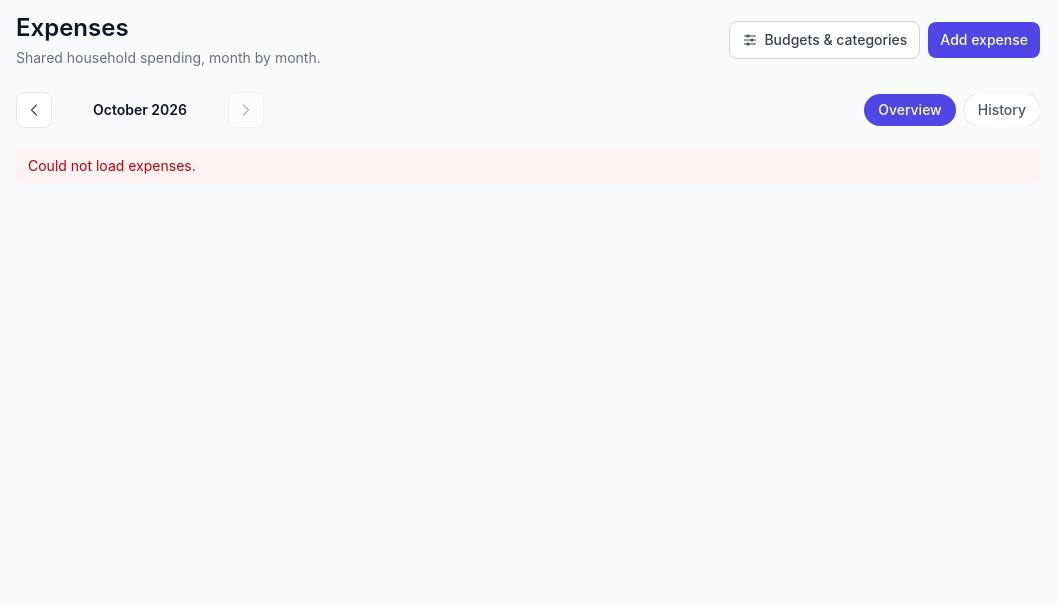
Expenses page › shows a load error and clears it once the next month loads
Expected: the text "Could not load expenses." is shown, [16,148,1040,184]
Click the button named "Previous month": (34, 110) [16,92,52,128]
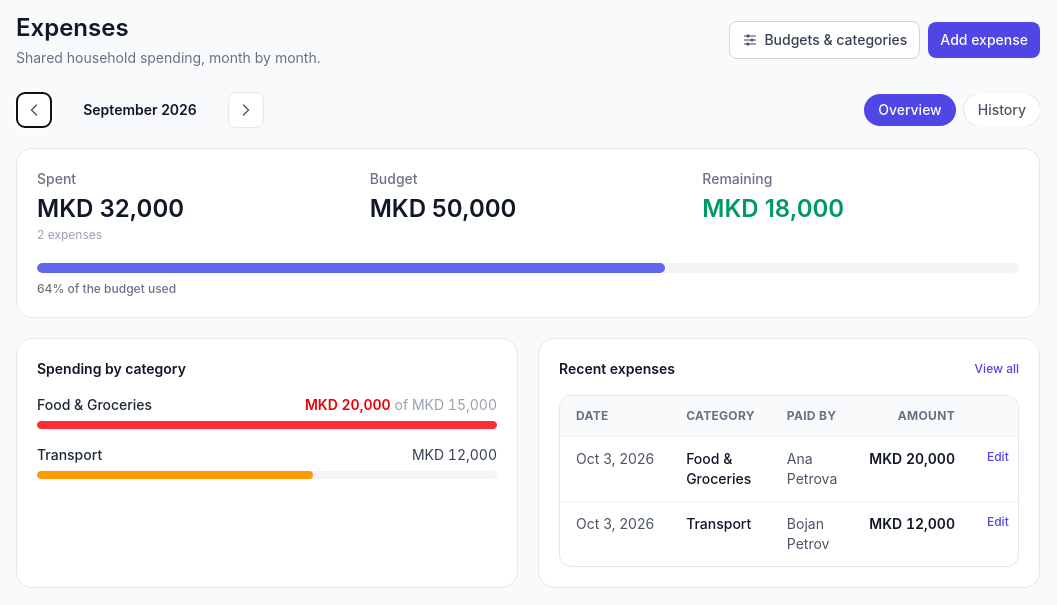
Expected: the text "Could not load expenses." is gone
Expected: the element named "Monthly summary" is shown, [16,148,1040,318]
